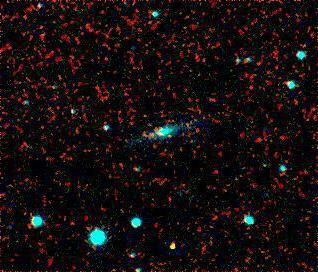star: (160, 227, 190, 257)
